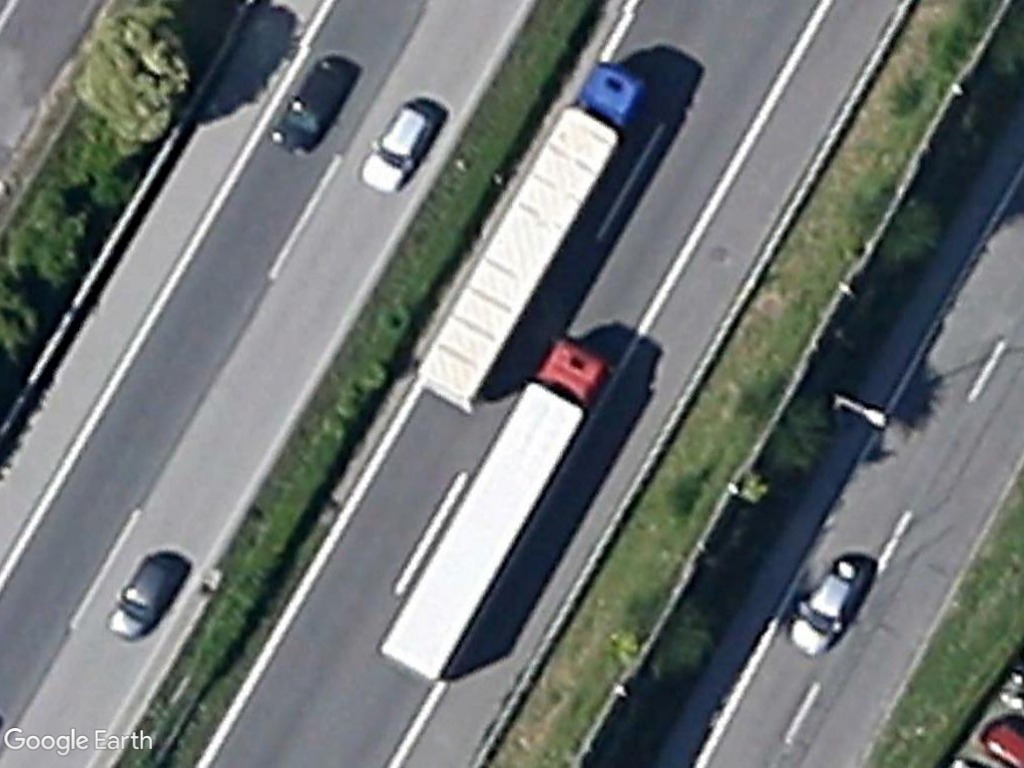car: (265, 52, 354, 158), (355, 97, 444, 193), (787, 553, 866, 656), (105, 549, 177, 644)
longvehicle: (407, 57, 651, 413), (378, 333, 617, 688)
